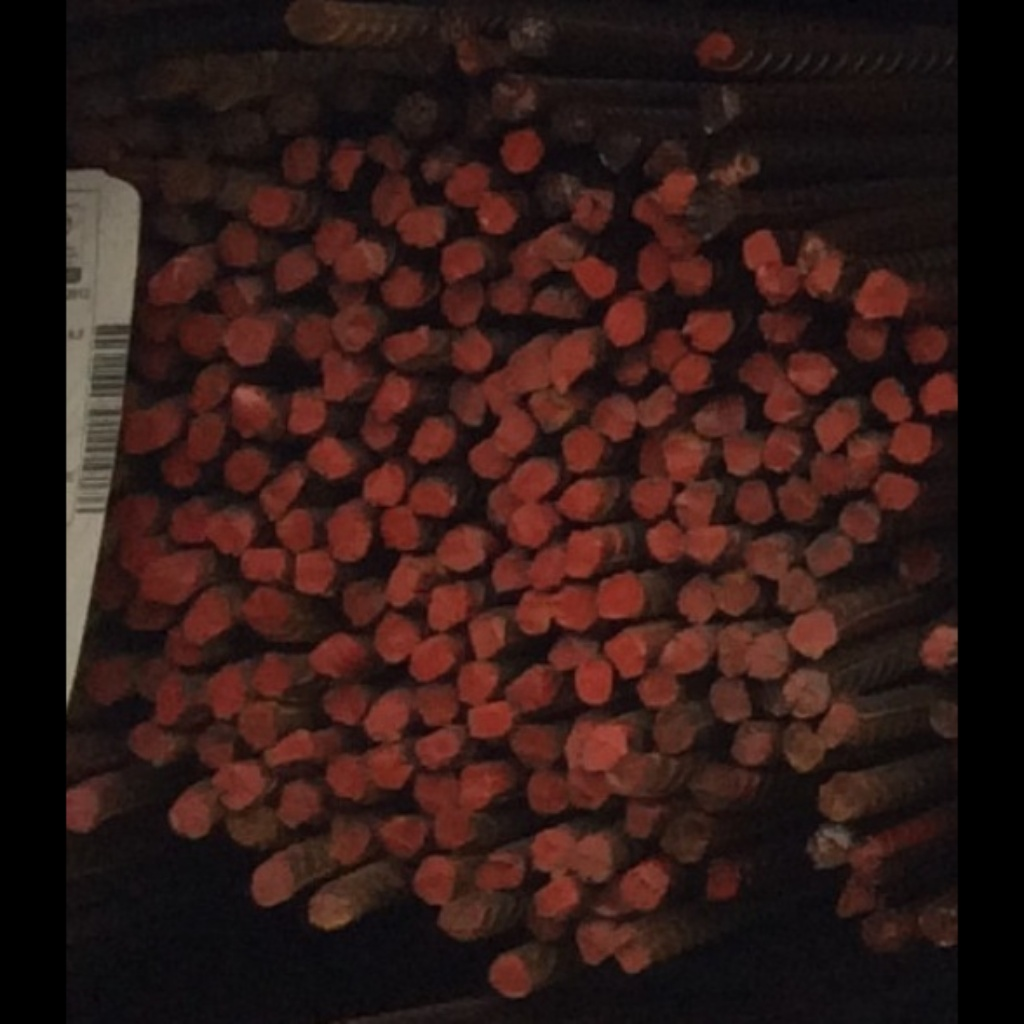dipstick: (135, 53, 196, 104), (114, 109, 181, 151), (226, 383, 275, 440), (219, 806, 280, 849), (262, 83, 313, 134), (855, 269, 905, 320), (184, 586, 229, 640), (308, 633, 360, 679), (377, 264, 430, 309), (210, 766, 266, 808), (325, 510, 372, 560), (132, 343, 182, 390), (214, 109, 264, 156), (424, 581, 470, 632), (787, 611, 839, 656), (409, 414, 452, 468), (283, 1, 341, 41), (510, 722, 559, 769), (226, 440, 271, 491), (438, 282, 491, 325), (384, 327, 438, 369), (240, 585, 287, 633), (290, 546, 336, 595), (222, 316, 268, 365), (815, 771, 860, 821), (604, 630, 649, 680), (259, 468, 304, 518), (410, 856, 454, 907), (433, 525, 484, 569), (602, 292, 646, 343), (249, 653, 296, 700), (149, 259, 196, 306), (776, 473, 821, 522), (322, 755, 365, 806), (121, 720, 168, 766), (337, 576, 383, 623), (276, 135, 323, 181), (693, 395, 747, 435), (506, 668, 555, 712), (684, 309, 733, 353), (557, 478, 606, 522), (139, 557, 189, 600), (858, 910, 909, 952), (329, 813, 370, 865), (203, 666, 243, 719), (149, 205, 202, 245), (619, 863, 665, 909), (492, 74, 538, 120), (249, 862, 296, 907), (365, 696, 410, 743), (599, 572, 642, 621), (543, 101, 592, 144), (181, 309, 224, 358), (689, 186, 731, 236), (374, 611, 414, 663), (506, 12, 552, 57), (391, 92, 437, 137), (804, 825, 848, 872), (661, 815, 705, 862), (365, 743, 409, 790), (412, 682, 461, 724), (217, 222, 259, 271), (215, 273, 264, 315), (186, 412, 228, 461), (121, 409, 163, 458), (386, 555, 424, 609), (555, 334, 593, 388), (531, 827, 572, 877), (512, 458, 557, 503), (508, 501, 553, 546), (167, 794, 212, 839), (83, 658, 128, 703), (576, 921, 623, 964), (376, 505, 419, 552), (572, 835, 613, 884), (167, 499, 208, 548), (372, 172, 409, 226), (745, 532, 788, 578), (322, 139, 360, 191), (156, 160, 208, 198), (787, 351, 834, 393), (785, 668, 827, 715), (560, 424, 602, 471), (323, 680, 365, 727), (445, 163, 492, 205), (329, 308, 376, 350), (205, 512, 247, 559), (757, 309, 813, 344), (264, 731, 313, 771), (532, 283, 588, 318), (532, 228, 583, 266), (640, 520, 684, 564), (377, 816, 421, 860), (886, 421, 931, 464), (524, 771, 567, 816), (458, 660, 503, 703), (555, 586, 597, 632), (633, 386, 679, 428), (414, 727, 461, 768), (240, 545, 287, 586), (660, 630, 708, 670), (700, 85, 738, 135), (397, 40, 447, 78), (869, 377, 912, 421), (715, 571, 759, 614), (275, 783, 318, 827), (306, 889, 351, 931), (161, 623, 203, 668), (449, 327, 491, 372), (919, 621, 956, 672), (574, 660, 614, 707), (409, 635, 449, 682), (499, 125, 539, 172), (292, 311, 330, 360), (114, 534, 163, 572), (903, 323, 947, 365), (727, 720, 769, 764), (358, 409, 402, 451), (156, 445, 200, 487), (804, 531, 849, 572), (585, 726, 626, 771), (592, 393, 633, 438), (512, 341, 553, 386), (466, 440, 512, 480), (412, 769, 459, 808), (365, 459, 404, 506), (445, 377, 484, 424), (153, 672, 188, 724), (837, 498, 879, 541), (710, 677, 752, 720), (565, 766, 607, 809), (409, 477, 451, 520), (367, 130, 410, 172), (247, 186, 290, 228), (613, 922, 647, 975), (740, 351, 785, 391), (717, 433, 762, 473), (733, 477, 773, 522), (437, 903, 482, 943), (313, 219, 353, 264), (189, 365, 229, 410), (202, 59, 242, 104), (689, 766, 727, 813), (468, 613, 506, 660), (240, 703, 278, 750), (67, 780, 97, 839), (846, 318, 888, 360), (898, 541, 940, 583), (489, 548, 531, 590), (536, 170, 572, 219), (376, 370, 412, 419), (336, 242, 377, 285), (813, 400, 853, 444), (701, 858, 741, 902), (487, 954, 531, 994), (595, 130, 639, 170), (397, 208, 442, 247), (677, 571, 712, 621), (639, 666, 677, 712), (322, 351, 360, 397), (332, 67, 370, 113), (919, 903, 956, 950), (809, 451, 851, 492), (747, 633, 788, 675), (630, 477, 672, 518), (666, 438, 707, 480), (531, 879, 574, 919), (431, 808, 471, 851), (715, 625, 748, 677), (785, 722, 821, 769), (764, 384, 804, 426), (776, 567, 818, 607), (196, 724, 236, 766), (308, 438, 350, 478), (275, 250, 315, 292), (874, 471, 917, 510), (653, 710, 691, 754), (668, 256, 712, 294), (576, 252, 614, 296), (684, 525, 729, 562), (550, 633, 595, 670), (564, 531, 599, 578), (675, 484, 715, 525), (574, 188, 614, 229), (761, 428, 799, 471), (757, 259, 794, 303), (123, 593, 167, 630), (440, 240, 485, 276), (560, 719, 593, 768), (463, 703, 512, 736), (135, 299, 175, 339), (475, 855, 522, 889), (113, 498, 160, 532), (670, 353, 712, 391), (494, 410, 532, 452), (489, 276, 527, 318), (285, 391, 323, 433), (473, 191, 512, 231), (134, 660, 172, 701), (818, 700, 851, 747), (524, 905, 564, 943), (451, 38, 491, 76), (458, 764, 492, 808), (278, 510, 315, 550), (517, 592, 553, 633), (531, 390, 567, 431), (531, 545, 565, 588), (661, 170, 694, 214), (626, 189, 663, 228), (613, 346, 647, 388), (323, 278, 369, 309), (651, 329, 684, 372), (640, 243, 670, 290), (661, 221, 700, 257), (647, 141, 686, 177), (419, 146, 458, 182), (919, 374, 954, 414), (590, 886, 632, 919), (512, 238, 548, 276), (639, 433, 670, 477), (693, 31, 731, 66), (846, 438, 872, 489), (837, 881, 874, 916), (740, 231, 778, 264), (849, 848, 882, 886), (806, 256, 835, 299), (795, 233, 825, 271), (485, 482, 512, 524), (929, 696, 957, 736), (613, 757, 642, 795), (733, 148, 759, 177)
